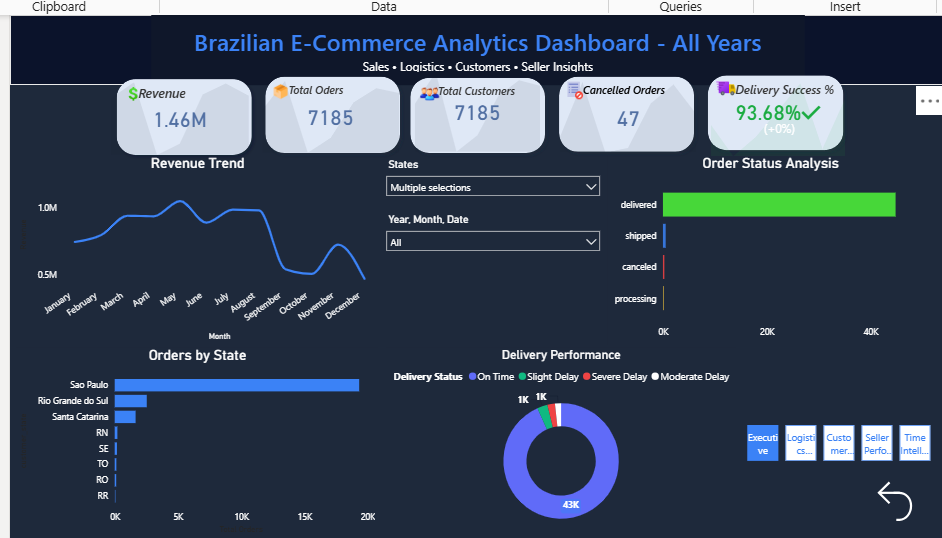

The dashboard page shown, as its layout file describes it:
{"tool":"powerbi","page":{"name":"Executive","canvas":[1280,720],"ordinal":0},"visuals":[{"type":"shape","box":[0,0,1280,95.7],"z":0},{"type":"lineChart","title":"Revenue Trend","fields":{"Y":["Dim_Date.Revenue"],"Category":["Dim_Date.Month"]},"box":[8.5,191.4,495.6,259.8],"z":1000},{"type":"donutChart","title":"Delivery Performance","fields":{"Category":["fact_orders.Delivery Status"],"Y":["Dim_Date.Total Orders"]},"box":[514.4,454.6,478.5,261.5],"z":2000},{"type":"shape","box":[136.8,77.8,202.9,121.8],"z":3000,"group":"g1"},{"type":"clusteredBarChart","title":"Orders by State","fields":{"Category":["dim_customer.customer_state"],"Y":["Dim_Date.Total Orders"]},"box":[8.5,454.6,495.6,259.8],"z":3000},{"type":"clusteredBarChart","title":"Order Status Analysis","fields":{"Category":["fact_orders.order_status"],"Y":["Dim_Date.Total Orders"]},"box":[816.9,191.4,446,259.8],"z":4000},{"type":"shape","box":[740.8,76,202.6,120.8],"z":5000,"group":"g1"},{"type":"slicer","fields":{"Values":["dim_customer.customer_state"]},"box":[504.1,191.4,312.7,75.2],"z":5000},{"type":"actionButton","box":[1175.8,630.6,87.2,68.4],"z":6000},{"type":"cardVisual","fields":{"Data":["Dim_Date.Dynamic Title"]},"box":[193.1,0,893.8,95.7],"z":7000},{"type":"kpi","fields":{"Indicator":["Dim_Date.Revenue"],"TrendLine":["Dim_Date.Day Name"]},"box":[133.3,87.3,198.2,109.4],"z":7000,"group":"g1"},{"type":"group","id":"g1","title":"Group 1","box":[133.3,73.5,1015.8,126.1],"z":8000},{"type":"kpi","fields":{"Indicator":["Dim_Date.Cancelled Orders"],"TrendLine":["Dim_Date.Day Name"]},"box":[746.1,87.5,196.6,105.7],"z":9000,"group":"g1"},{"type":"slicer","fields":{"Values":["Dim_Date.Year","Dim_Date.Month","Dim_Date.Date"]},"box":[504.1,266.6,312.7,75.2],"z":9000},{"type":"pageNavigator","box":[992.9,560.5,270,49.6],"z":10000},{"type":"image","box":[157,95.9,22.1,24.5],"z":14000,"group":"g1"},{"type":"shape","box":[339.4,76,202.1,122.6],"z":15000,"group":"g1"},{"type":"shape","box":[538.7,76.6,202.2,120.8],"z":17000,"group":"g1"},{"type":"shape","box":[945.9,73.5,203.3,120.4],"z":19000,"group":"g1"},{"type":"kpi","fields":{"Indicator":["Dim_Date.Total Orders"],"TrendLine":["Dim_Date.Day Name"]},"box":[340.8,85.8,197,108],"z":20000,"group":"g1"},{"type":"kpi","fields":{"TrendLine":["Dim_Date.Day Name"],"Goal":["Dim_Date.Delivery Success %"],"Indicator":["Dim_Date.Delivery Success %"]},"box":[953.1,88.1,193.1,109.4],"z":21000,"group":"g1"},{"type":"kpi","fields":{"Indicator":["Dim_Date.Total Customers"],"TrendLine":["Dim_Date.Day Name"]},"box":[548.8,73.5,181.2,118.8],"z":22000,"group":"g1"},{"type":"image","box":[358.3,92.1,22,24.7],"z":24000,"group":"g1"},{"type":"image","box":[560.1,93.7,27.1,26.4],"z":25000,"group":"g1"},{"type":"image","box":[757.7,88.5,27.1,26.5],"z":26000,"group":"g1"},{"type":"image","box":[966.3,87.4,27.1,26.5],"z":27000,"group":"g1"}]}

Visuals, with their boxes on the page's 1280x720 design canvas (x1, y1, x2, y2). These are canvas units, not pixel positions in the 942x538 screenshot, which may show the page scaled, cropped or inside an application window:
shape: 0/0/1280/96
"Revenue Trend" lineChart: 8/191/504/451
"Delivery Performance" donutChart: 514/455/993/716
shape: 137/78/340/200
"Orders by State" clusteredBarChart: 8/455/504/714
"Order Status Analysis" clusteredBarChart: 817/191/1263/451
shape: 741/76/943/197
slicer - dim_customer.customer_state: 504/191/817/267
actionButton: 1176/631/1263/699
cardVisual - Dim_Date.Dynamic Title: 193/0/1087/96
kpi - Dim_Date.Revenue x Dim_Date.Day Name: 133/87/332/197
"Group 1" group: 133/74/1149/200
kpi - Dim_Date.Cancelled Orders x Dim_Date.Day Name: 746/88/943/193
slicer - Dim_Date.Year x Dim_Date.Month: 504/267/817/342
pageNavigator: 993/560/1263/610
image: 157/96/179/120
shape: 339/76/542/199
shape: 539/77/741/197
shape: 946/74/1149/194
kpi - Dim_Date.Total Orders x Dim_Date.Day Name: 341/86/538/194
kpi - Dim_Date.Day Name x Dim_Date.Delivery Success %: 953/88/1146/198
kpi - Dim_Date.Total Customers x Dim_Date.Day Name: 549/74/730/192
image: 358/92/380/117
image: 560/94/587/120
image: 758/88/785/115
image: 966/87/993/114
